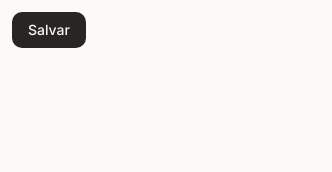
Test: BusyButton › executa o handler uma única vez em cliques repetidos
Click the button "Salvar" at (49, 30), box [12,12,86,48]
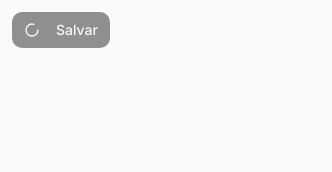
expect the button "Salvar" is disabled: met
Click the button "Salvar" at (61, 30), box [12,12,110,48]
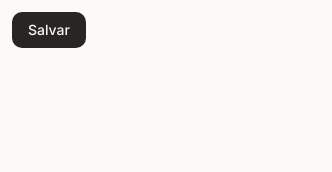
expect the button "Salvar" is enabled: met, box [12,12,86,48]
